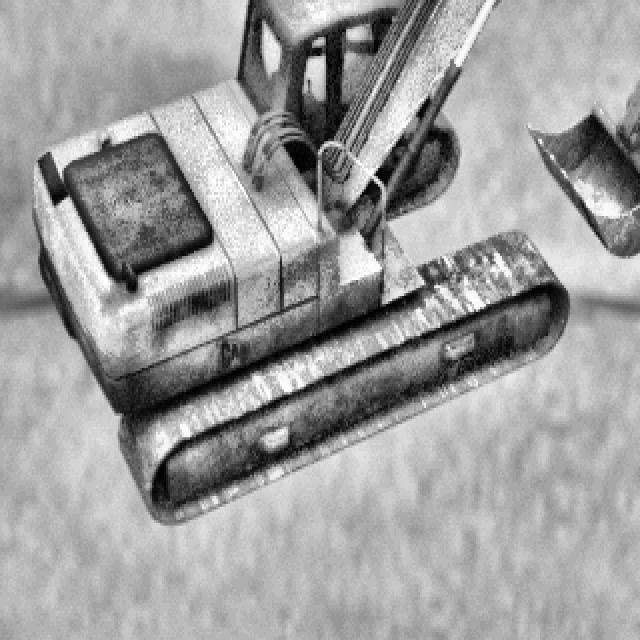excavator: (30, 0, 640, 523)
